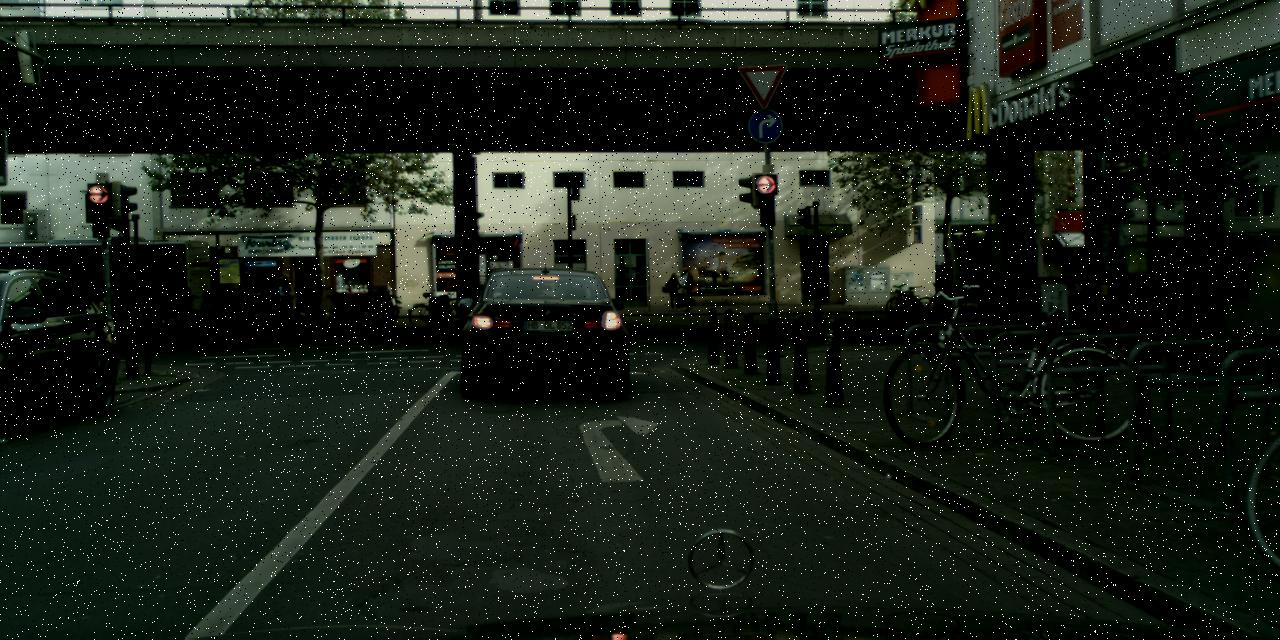ped: (277, 273, 297, 323), (270, 271, 290, 321), (676, 267, 692, 309), (666, 272, 682, 310), (672, 272, 686, 307)
